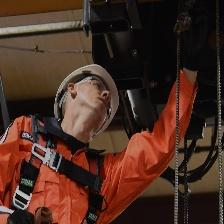Person: (1, 12, 212, 224)
helmet: (51, 59, 124, 139)
no-vest: (7, 143, 107, 224)
